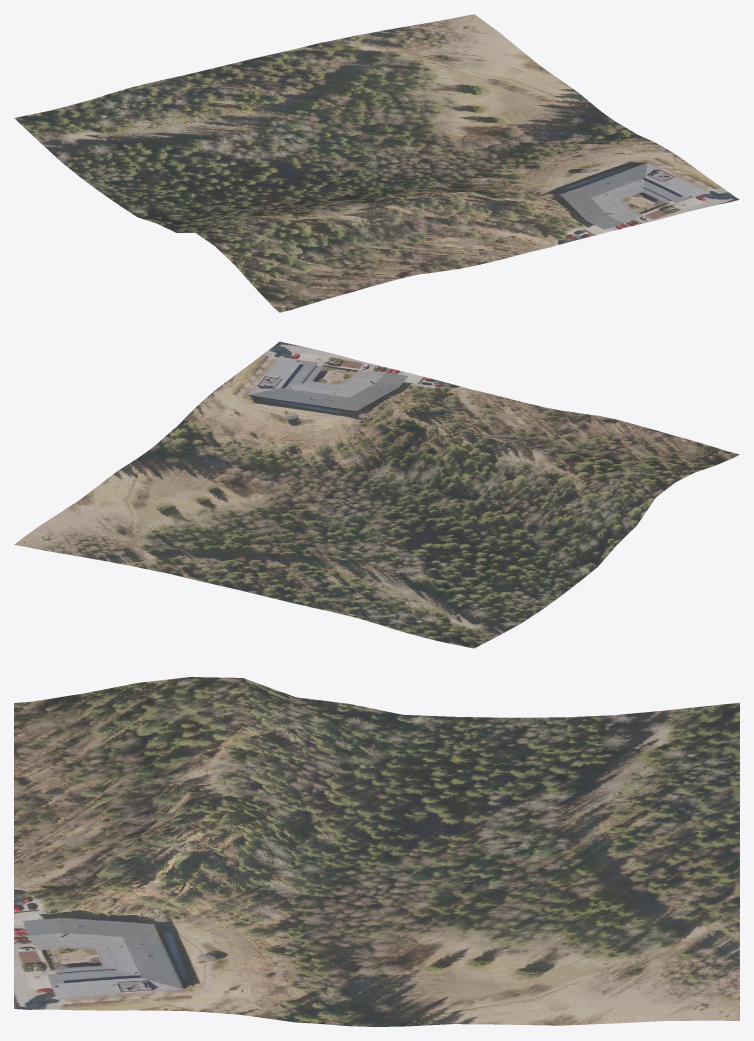
File: CM_Terrain_24490663_6822046.fbx
3 renders of one model, top to bottom at view 1: azimuth 30°, elevation 25°; view 2: azimuth 150°, elevation 25°; view 3: azimuth 270°, elevation 25°, orthographic. The views are drawn at different scales.
Visible parts, largest first — view 1: CM_Terrain_24490663_6822046_LOD0; view 2: CM_Terrain_24490663_6822046_LOD0; view 3: CM_Terrain_24490663_6822046_LOD0.
Part boxes in pixels (x1,y1,x2,y2): CM_Terrain_24490663_6822046_LOD0: [14, 14, 739, 312]; CM_Terrain_24490663_6822046_LOD0: [14, 341, 739, 648]; CM_Terrain_24490663_6822046_LOD0: [14, 677, 739, 1026].
Size of what is drawn, in the model's own units: 205 by 13.84 by 205.
